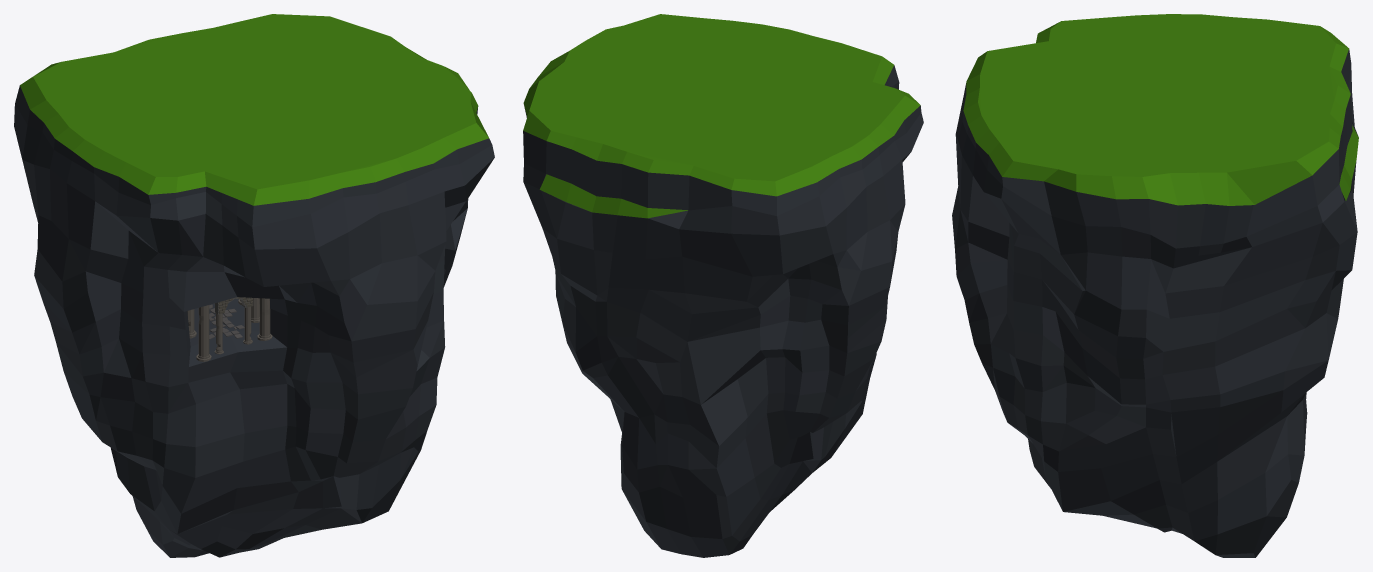
File: RuinIsland 1.fbx
The picture shows the model from 3 angles, left to right: view 1: azimuth 30°, elevation 25°; view 2: azimuth 150°, elevation 25°; view 3: azimuth 270°, elevation 25°; orthographic projection. The views are drawn at different scales.
Parts seen in each view (by area): view 1: RuinFloor.002; view 2: RuinFloor.002; view 3: RuinFloor.002.
Part boxes in pixels (box(x1,y1,x2,y2)): RuinFloor.002: box(14, 14, 494, 557); RuinFloor.002: box(523, 14, 923, 557); RuinFloor.002: box(952, 14, 1358, 557).
Bounding box in the file's own units: 7194 × 8367 × 6755.
